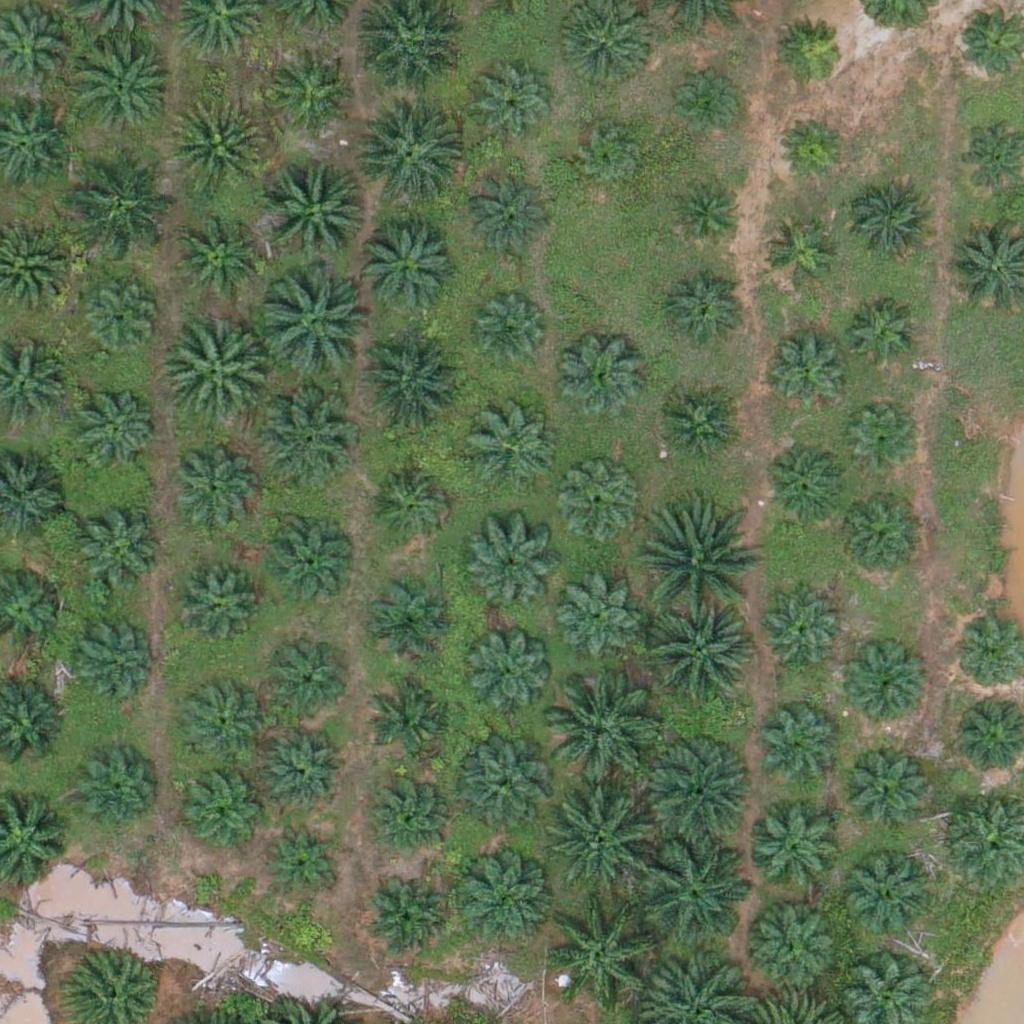Kelapa_Sawit: (636, 732, 749, 846), (643, 509, 756, 622), (640, 830, 753, 943), (348, 334, 461, 447), (257, 271, 370, 384), (68, 143, 181, 256), (263, 156, 375, 270), (641, 602, 753, 715), (548, 896, 660, 1009), (548, 787, 660, 900), (544, 675, 656, 788), (157, 315, 269, 428), (67, 32, 179, 145), (350, 99, 462, 212), (836, 849, 936, 950), (453, 742, 553, 843), (357, 221, 457, 322), (254, 388, 354, 489), (166, 96, 266, 197), (746, 895, 846, 995), (750, 799, 850, 899), (452, 848, 552, 948), (763, 325, 851, 414), (661, 269, 749, 357), (649, 385, 737, 473), (833, 492, 921, 580), (756, 702, 844, 790), (465, 528, 553, 616), (465, 629, 553, 717), (79, 274, 167, 362), (68, 381, 156, 469), (72, 509, 160, 597), (65, 611, 153, 699), (167, 559, 255, 647), (265, 514, 353, 602), (364, 877, 452, 965), (366, 460, 454, 548), (555, 461, 643, 549), (173, 217, 261, 305), (271, 41, 359, 129), (464, 174, 552, 262), (471, 56, 559, 144), (849, 178, 937, 266), (762, 440, 849, 528), (755, 588, 842, 676), (844, 645, 931, 733), (840, 740, 927, 828), (72, 746, 159, 834), (182, 763, 269, 851), (178, 678, 265, 766), (169, 442, 256, 530), (263, 639, 350, 727), (264, 723, 351, 811), (362, 767, 449, 855), (370, 670, 457, 758), (362, 573, 449, 661), (557, 332, 644, 420), (554, 574, 641, 662), (468, 405, 555, 493), (472, 295, 547, 371), (670, 66, 745, 142), (845, 405, 920, 481), (265, 820, 340, 896), (668, 178, 743, 254), (775, 16, 850, 91), (760, 216, 835, 291), (574, 121, 649, 196), (848, 300, 923, 375), (775, 112, 850, 187)
